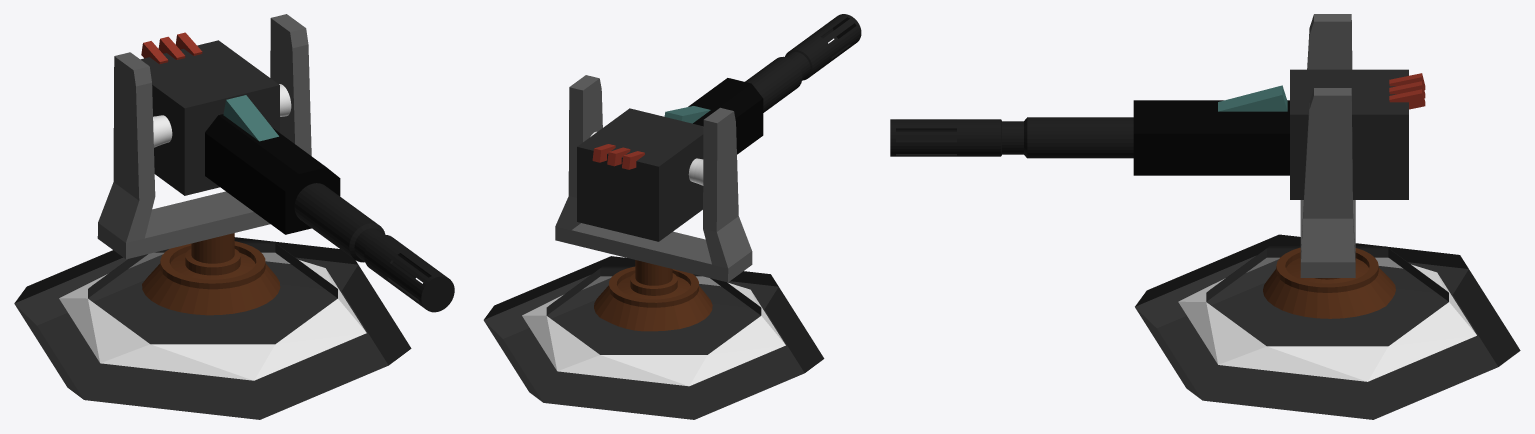
Rendered from turret.fbx.
3 renders of one model, left to right at view 1: azimuth 30°, elevation 25°; view 2: azimuth 150°, elevation 25°; view 3: azimuth 270°, elevation 25°, orthographic. The views are drawn at different scales.
Visible parts, largest first — view 1: Circle, Cube, Cube.001, Cube.003, Cylinder.001, Cylinder, Cube.004, Cube.002, Cylinder.002; view 2: Circle, Cube, Cube.001, Cylinder.001, Cylinder, Cube.003, Cube.002, Cube.004, Cylinder.002; view 3: Circle, Cube, Cube.003, Cube.001, Cylinder, Cylinder.001, Cube.004, Cube.002.
Boxes of the visible parts, left/top/right/bottom form: Circle: left=14, top=237, right=411, bottom=419; Cube: left=97, top=14, right=311, bottom=259; Cube.001: left=140, top=40, right=279, bottom=195; Cube.003: left=205, top=114, right=340, bottom=234; Cylinder.001: left=142, top=233, right=280, bottom=315; Cylinder: left=294, top=183, right=454, bottom=312; Cube.004: left=223, top=95, right=278, bottom=141; Cube.002: left=141, top=32, right=202, bottom=64; Cylinder.002: left=153, top=84, right=291, bottom=147; Circle: left=483, top=256, right=824, bottom=419; Cube: left=555, top=75, right=752, bottom=282; Cube.001: left=577, top=108, right=703, bottom=241; Cylinder.001: left=594, top=260, right=712, bottom=331; Cylinder: left=745, top=14, right=861, bottom=112; Cube.003: left=688, top=78, right=763, bottom=154; Cube.002: left=592, top=144, right=644, bottom=169; Cube.004: left=664, top=106, right=710, bottom=123; Cylinder.002: left=590, top=131, right=703, bottom=185; Circle: left=1135, top=234, right=1520, bottom=419; Cube: left=1300, top=14, right=1355, bottom=277; Cube.003: left=1133, top=100, right=1289, bottom=175; Cube.001: left=1290, top=69, right=1408, bottom=199; Cylinder: left=890, top=117, right=1133, bottom=158; Cylinder.001: left=1263, top=247, right=1395, bottom=318; Cube.004: left=1218, top=85, right=1287, bottom=111; Cube.002: left=1389, top=73, right=1425, bottom=109.
Bounding box in the file's own units: 399 × 334 × 651.
